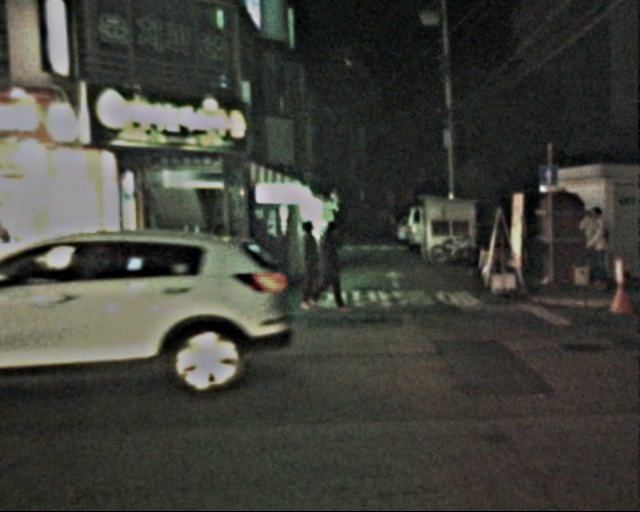person: (310, 220, 352, 315), (287, 219, 326, 312), (574, 206, 612, 293)
